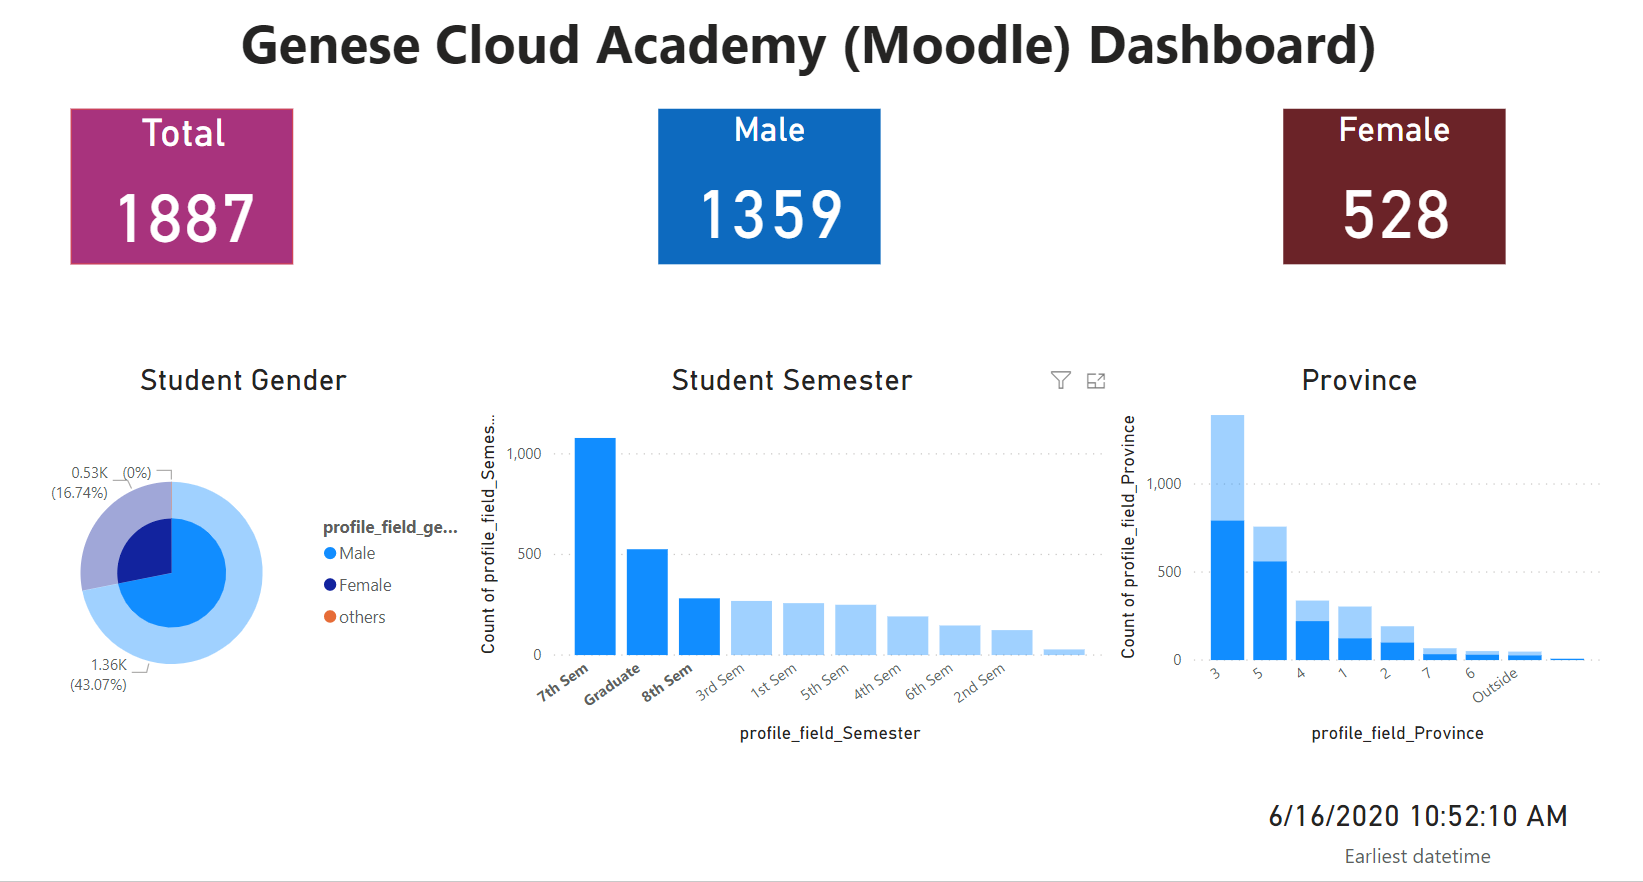

The page's visual inventory and layout, read from the dashboard file:
{"tool":"powerbi","page":{"name":"Dashboard","canvas":[1280,720],"ordinal":0},"visuals":[{"type":"pieChart","title":"Student Gender","fields":{"Category":["user_latest.profile_field_gender1"],"Series":["user_latest.profile_field_gender1"],"Y":["CountNonNull(user_latest.profile_field_gender)"]},"box":[2.1,303.2,367.2,310.5],"z":0},{"type":"columnChart","title":"Student Semester","fields":{"Category":["user_latest.profile_field_Semester1"],"Y":["CountNonNull(user_latest.profile_field_Semester)1"]},"box":[369.4,303.2,513.4,310.5],"z":1000},{"type":"columnChart","title":"Province","fields":{"Category":["user_latest.profile_field_Province1"],"Y":["CountNonNull(user_latest.profile_field_Province)1"]},"box":[882.3,302.7,397.4,310.5],"z":2000},{"type":"card","title":"Total","fields":{"Values":["CountNonNull(user_latest.id)"]},"box":[47.1,98.8,178.8,124.4],"z":3000},{"type":"card","title":"Male","fields":{"Values":["CountNonNull(user_latest.profile_field_gender)"]},"box":[518.2,98.8,178.8,124.4],"z":4000},{"type":"card","title":"Female","fields":{"Values":["CountNonNull(user_latest.profile_field_gender)"]},"box":[1019.5,98.8,178.8,124.4],"z":5000},{"type":"textbox","box":[0,10.9,1279.3,72.5],"z":6000},{"type":"card","fields":{"Values":["Min(Kathmandu.datetime)"]},"box":[994.2,641.5,268.2,68.9],"z":7000}]}

Visuals, with their boxes on the page's 1280x720 design canvas (x1, y1, x2, y2). These are canvas units, not pixel positions in the 1643x882 screenshot, which may show the page scaled, cropped or inside an application window:
"Student Gender" pieChart: [2,303,369,614]
"Student Semester" columnChart: [369,303,883,614]
"Province" columnChart: [882,303,1280,613]
"Total" card: [47,99,226,223]
"Male" card: [518,99,697,223]
"Female" card: [1020,99,1198,223]
textbox: [0,11,1279,83]
card - Min(Kathmandu.datetime): [994,642,1262,710]
